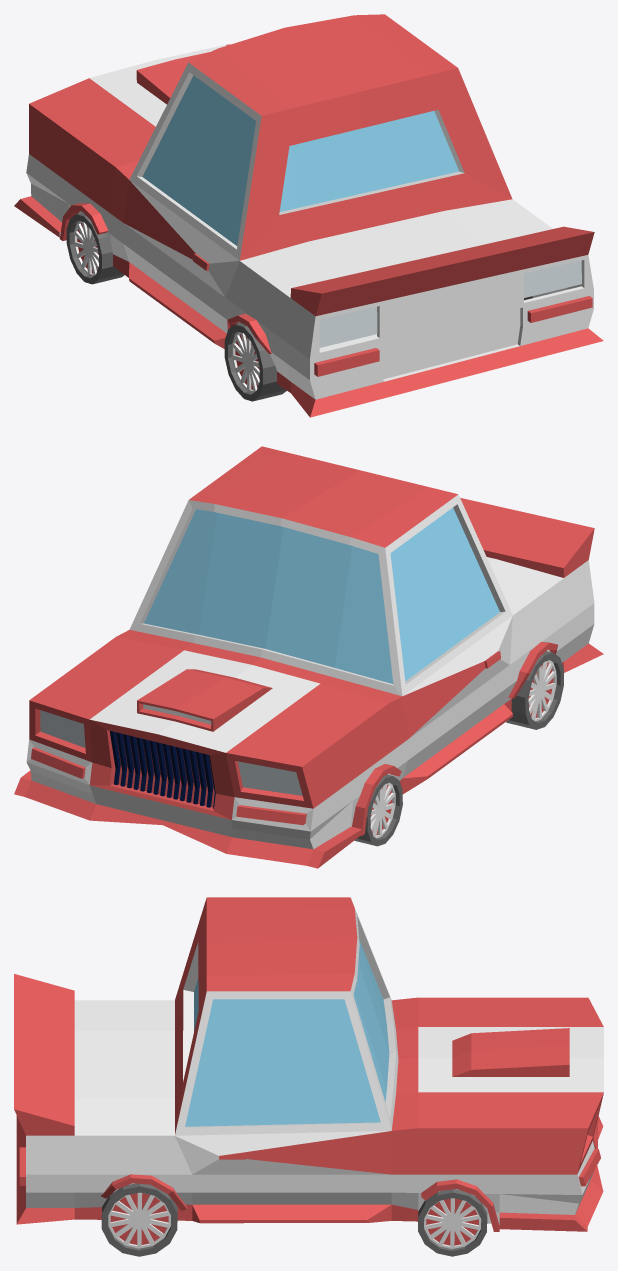
The model's file is low_poly_car.glb.
The picture shows the model from 3 angles, top to bottom: view 1: azimuth 30°, elevation 25°; view 2: azimuth 150°, elevation 25°; view 3: azimuth 270°, elevation 25°; orthographic projection.
Visible parts, largest first — view 1: body, backlight, wheel.1, wheel1.1, front_fender, rear_fender; view 2: body, lattice.1, wheel.1, headlight, wheel1.1, front_fender, rear_fender; view 3: body, wheel.1, wheel1.1, front_fender, rear_fender.
Boxes of the visible parts, x1,y1,x2,y2 form: body: (14,14,603,417); backlight: (319,260,581,347); wheel.1: (224,292,550,401); wheel1.1: (66,212,124,284); front_fender: (59,203,108,240); rear_fender: (227,313,271,353); body: (14,446,603,868); lattice.1: (109,731,215,808); wheel.1: (506,651,563,729); headlight: (40,710,302,795); wheel1.1: (354,774,402,846); front_fender: (352,764,401,835); rear_fender: (508,642,557,698); body: (14,897,603,1231); wheel.1: (101,1183,177,1256); wheel1.1: (418,1189,487,1256); front_fender: (421,1179,499,1231); rear_fender: (101,1174,187,1210).
Size of the model in its own units: 1.38 by 1.1 by 2.36.
